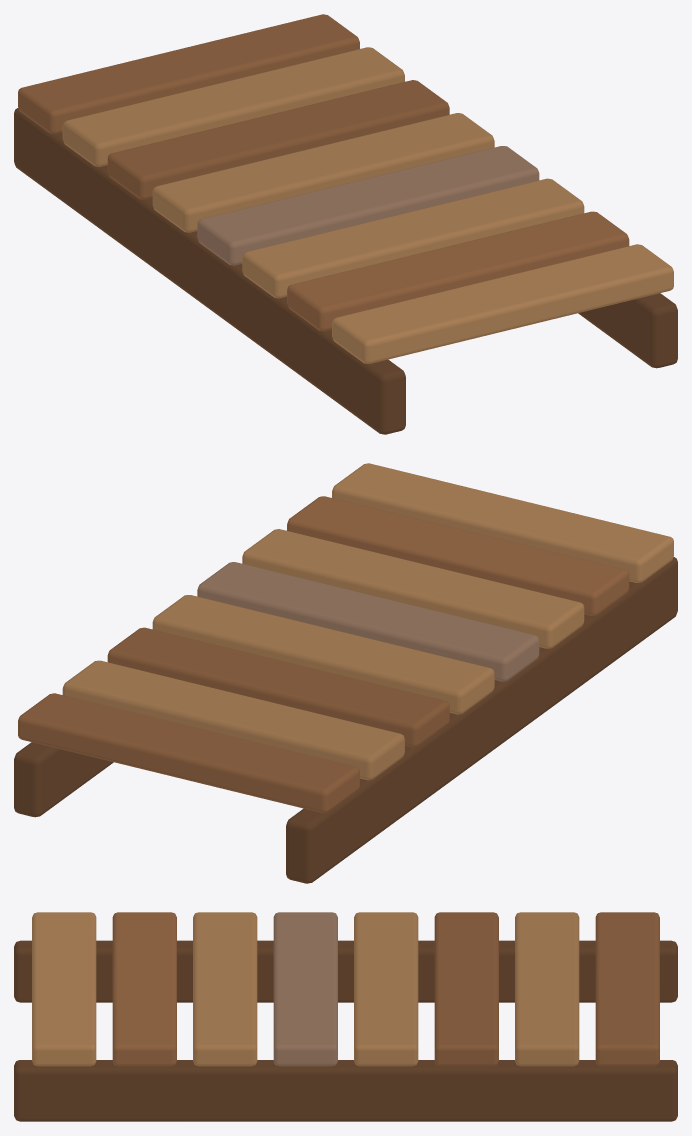
The model's file is dock.glb.
3 renders of one model, top to bottom at view 1: azimuth 30°, elevation 25°; view 2: azimuth 150°, elevation 25°; view 3: azimuth 270°, elevation 25°, orthographic. The views are drawn at different scales.
Parts seen in each view (by area): view 1: dock; view 2: dock; view 3: dock.
Boxes of the visible parts, x1,y1,x2,y2 form: dock: (14,14,677,434); dock: (14,463,677,883); dock: (14,912,677,1121).
Bounding box in the file's own units: 1.6 × 0.44 × 3.3.
